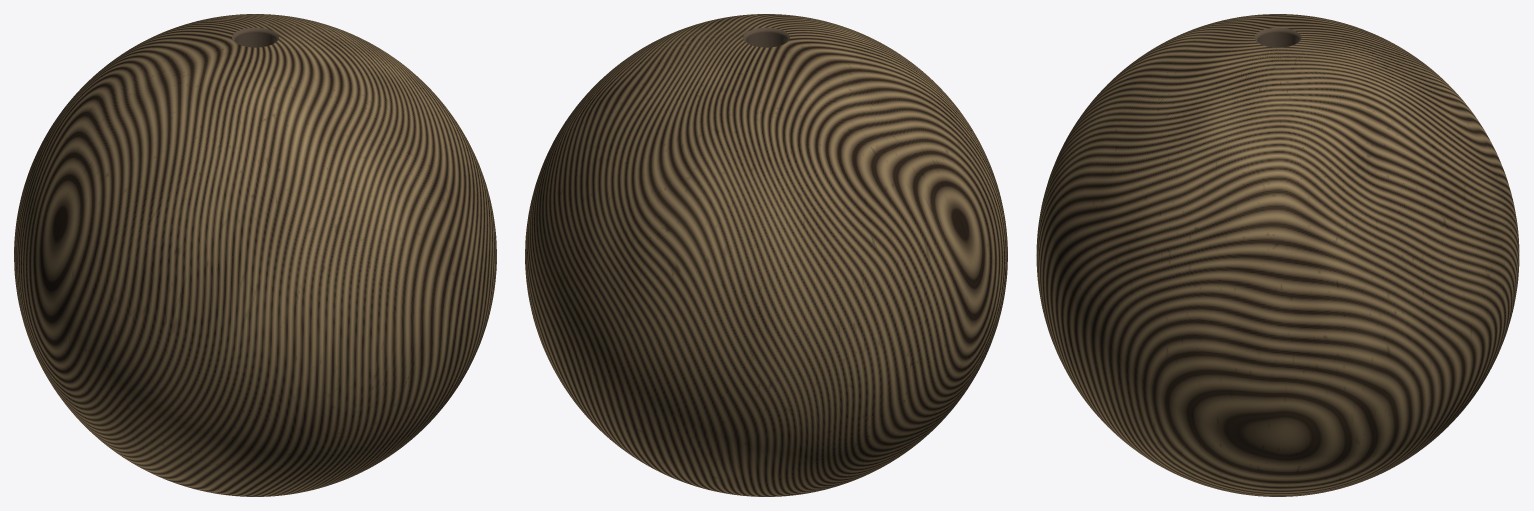
Rendered from wood-wenge-12mm.glb.
The picture shows the model from 3 angles, left to right: view 1: azimuth 30°, elevation 25°; view 2: azimuth 150°, elevation 25°; view 3: azimuth 270°, elevation 25°; orthographic projection.
Parts seen in each view (by area): view 1: wenge; view 2: wenge; view 3: wenge.
Boxes of the visible parts, x1,y1,x2,y2 form: wenge: [14, 14, 496, 496]; wenge: [525, 14, 1007, 496]; wenge: [1036, 14, 1519, 496].
Size of the model in its own units: 0.012 by 0.0119 by 0.012.
Materials: 2 (1 with a texture image).
